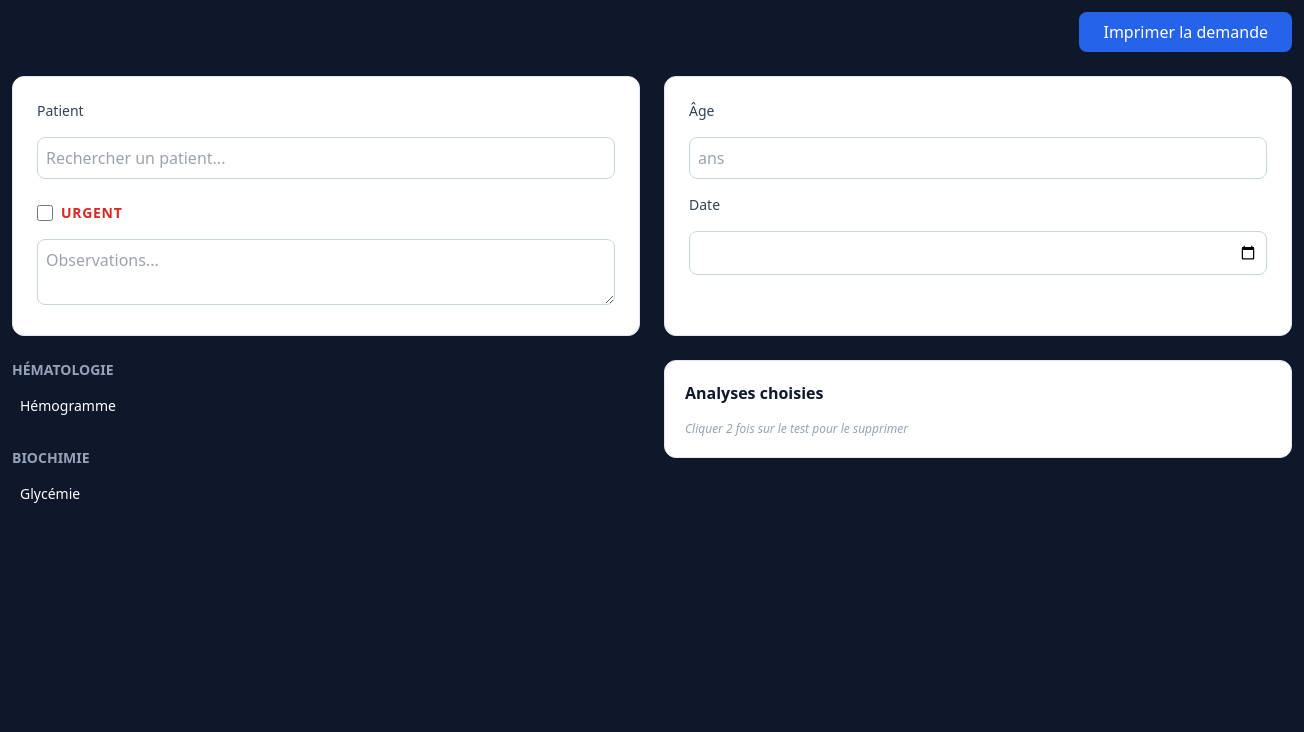
Test: Analyses Page › adds an analysis on click and removes on double click
Add Hemogramme
Click the button "Hémogramme" at (68, 406), box x1=12 y1=388 x2=640 y2=424
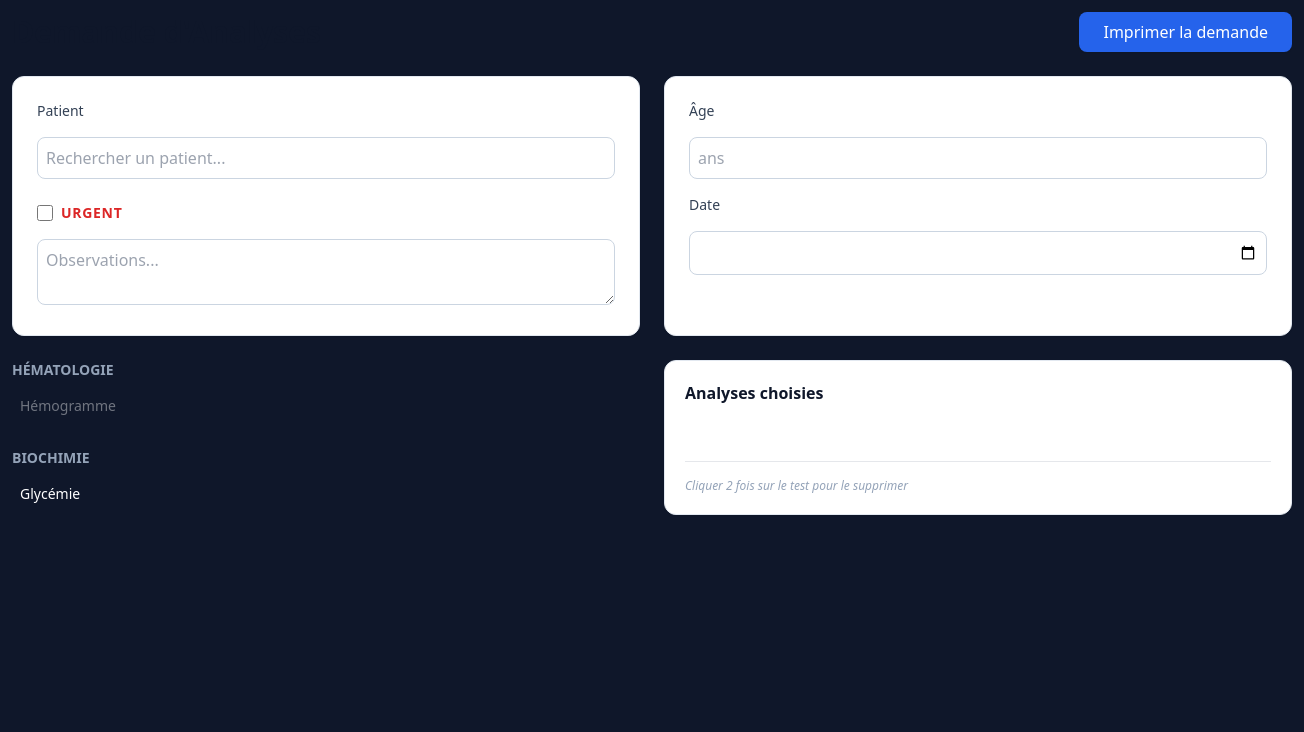
Now the text "1. Hémogramme" is shown
Remove it
Double-click the text "1. Hémogramme" at (978, 442), box x1=685 y1=421 x2=1271 y2=462
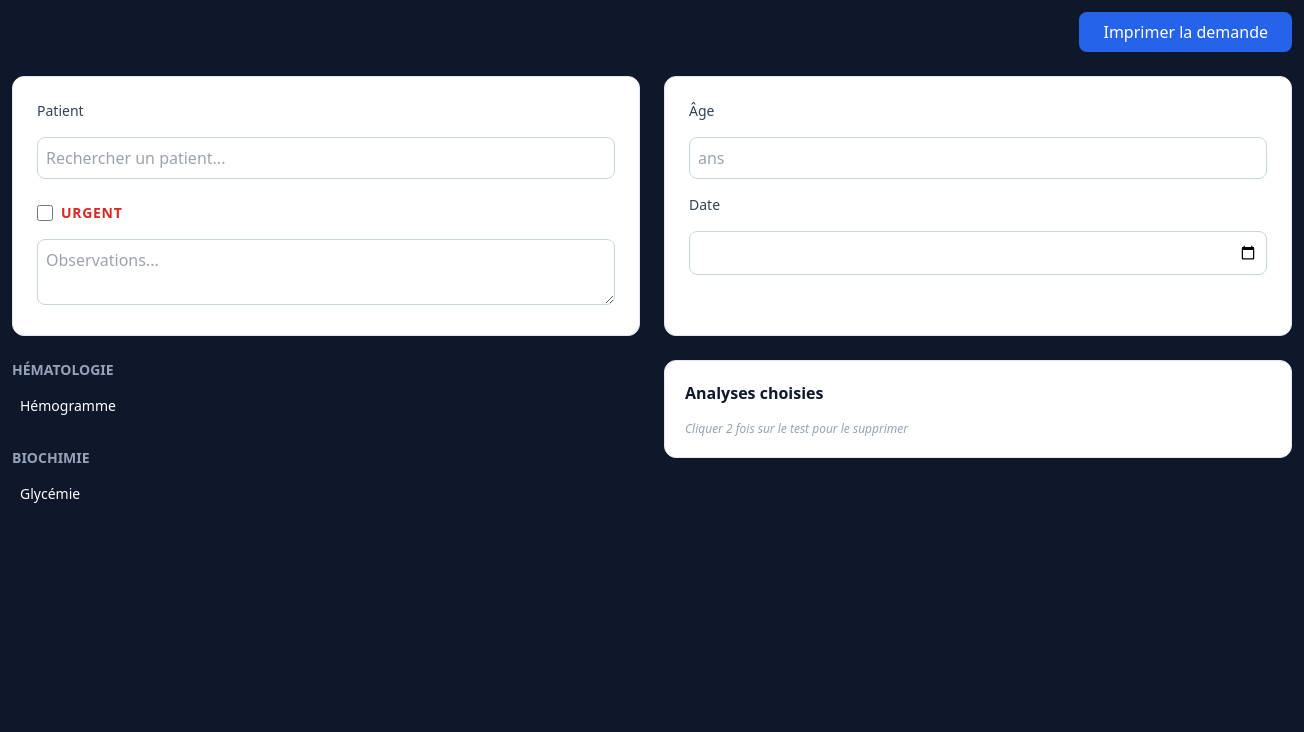
Now the text "1. Hémogramme" is gone
